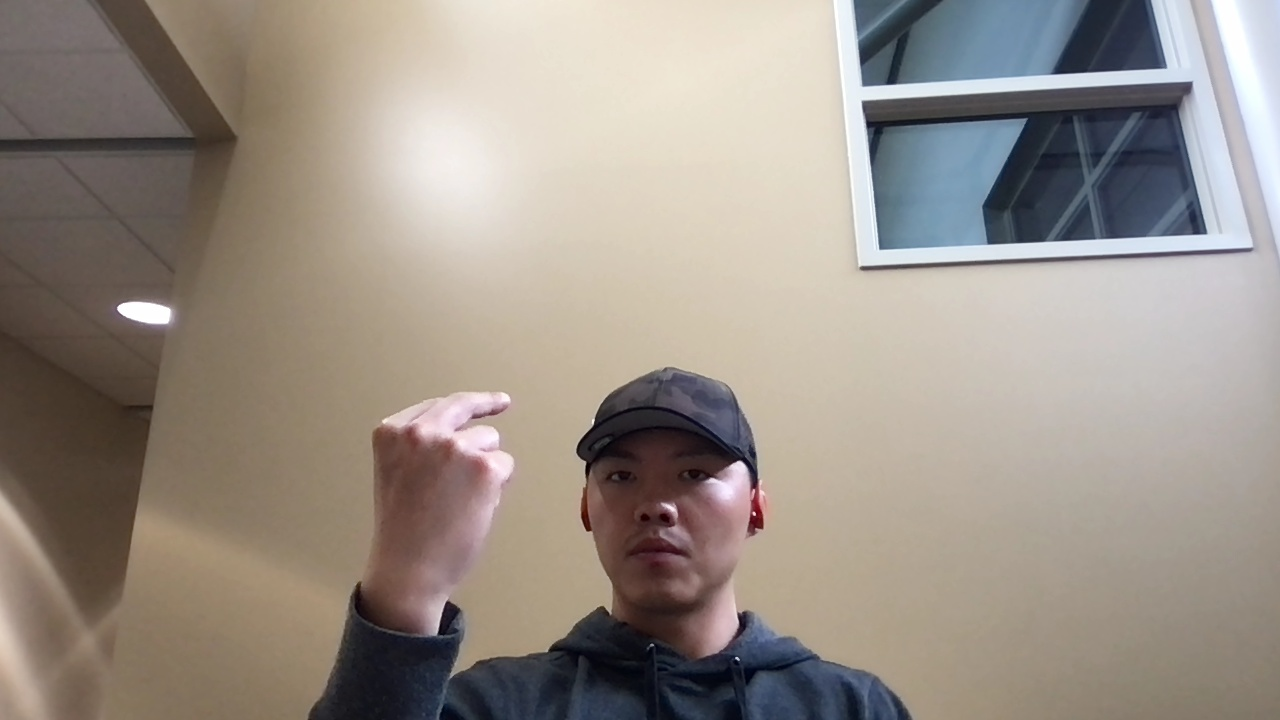No: (361, 377, 517, 611)
